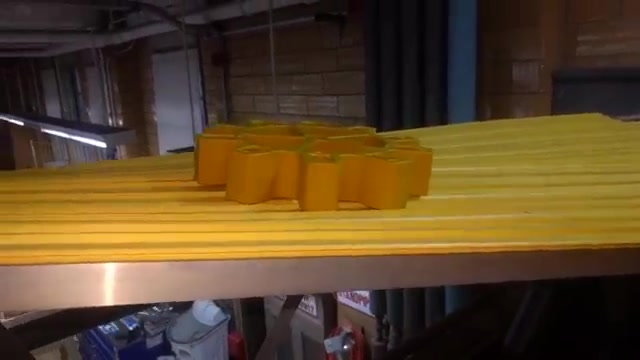gear: (191, 112, 443, 225)
